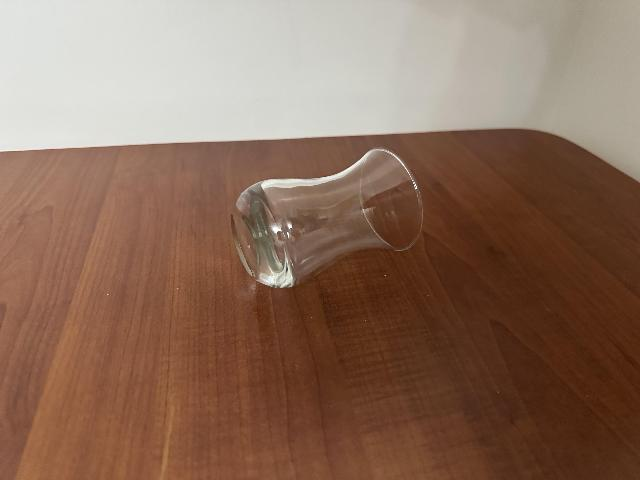Cam: (224, 156, 427, 281)
